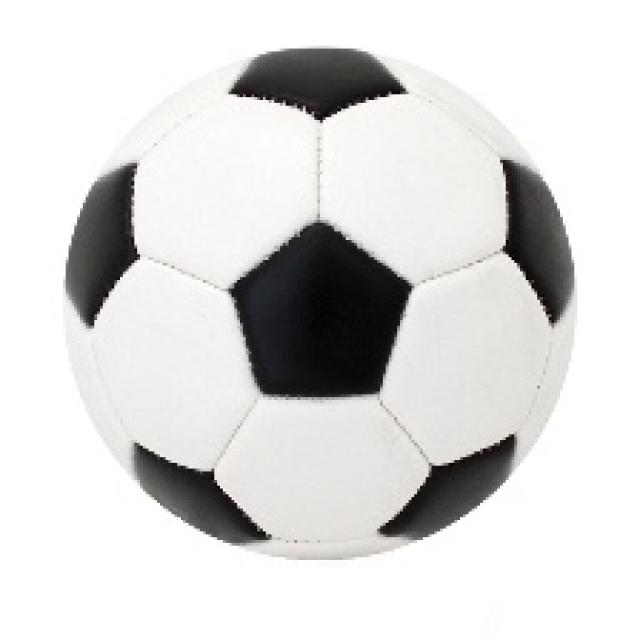ball: (63, 49, 575, 562)
